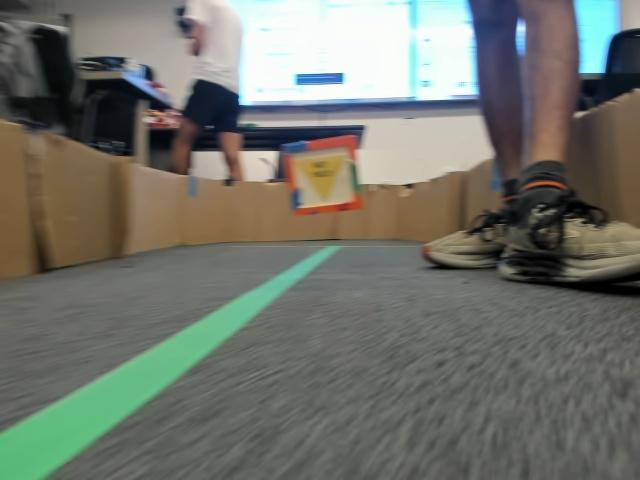Do Not Yield: (296, 159, 346, 202)
